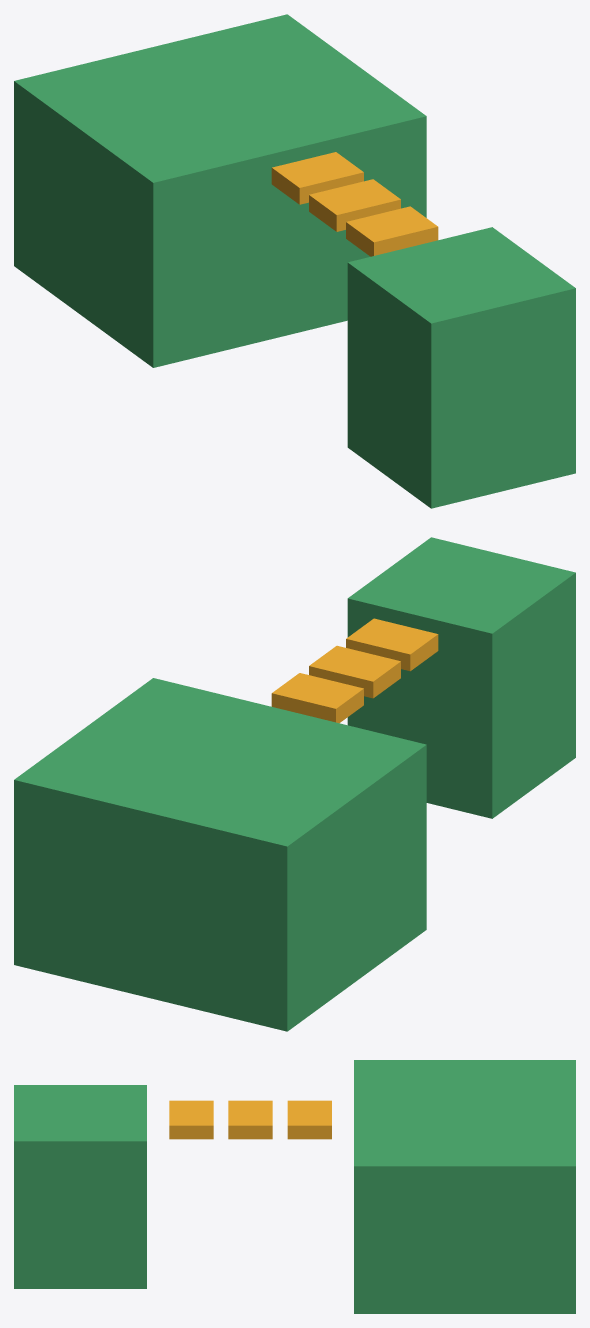
Rendered from level.glb.
3 views of the same model, one above another, from view 1: azimuth 30°, elevation 25°; view 2: azimuth 150°, elevation 25°; view 3: azimuth 270°, elevation 25° (orthographic). The views are drawn at different scales.
Visible parts, largest first — view 1: Platform62, Platform72, Bridge62, Bridge22, Bridge52; view 2: Platform62, Platform72, Bridge22, Bridge62, Bridge52; view 3: Platform62, Platform72, Bridge52, Bridge62, Bridge22.
Boxes of the visible parts, bbox=[...] form: Platform62: bbox=[14, 14, 426, 367]; Platform72: bbox=[347, 227, 575, 508]; Bridge62: bbox=[346, 206, 438, 256]; Bridge22: bbox=[271, 152, 363, 204]; Bridge52: bbox=[309, 179, 400, 231]; Platform62: bbox=[14, 678, 426, 1031]; Platform72: bbox=[347, 537, 575, 818]; Bridge22: bbox=[271, 673, 363, 723]; Bridge62: bbox=[346, 618, 438, 671]; Bridge52: bbox=[309, 645, 400, 698]; Platform62: bbox=[354, 1060, 575, 1313]; Platform72: bbox=[14, 1085, 146, 1288]; Bridge52: bbox=[228, 1100, 272, 1139]; Bridge62: bbox=[169, 1100, 213, 1139]; Bridge22: bbox=[287, 1100, 331, 1139].
Bounding box in the file's own units: 17 × 11 × 38.
